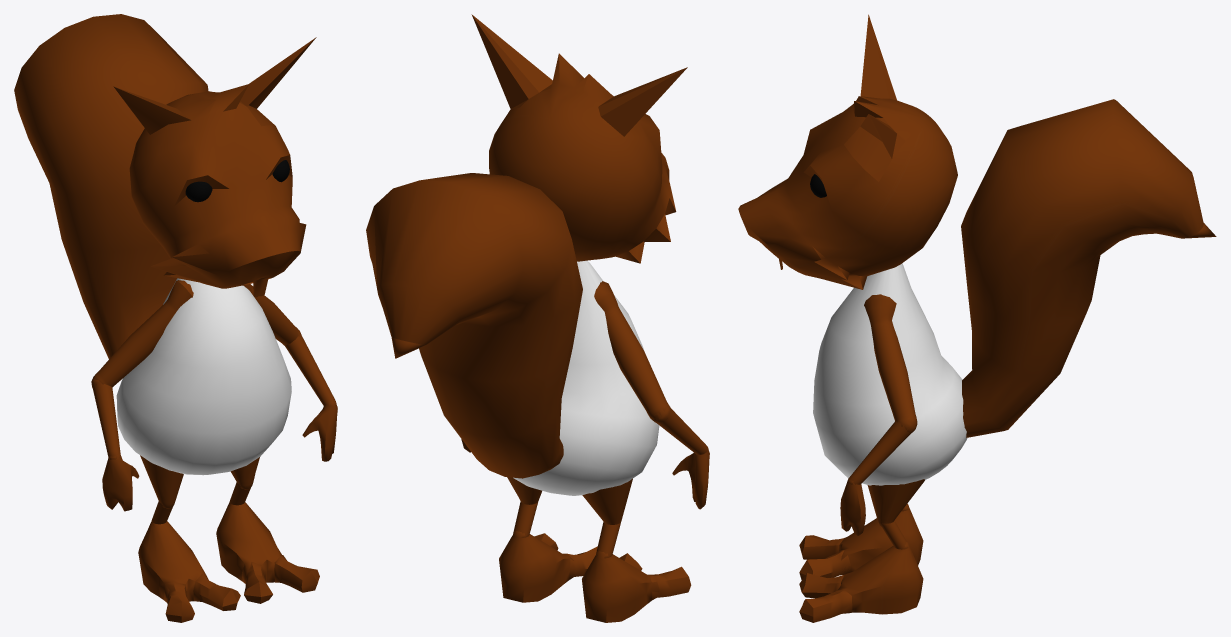
File: Squirrel_Textured.gltf
The picture shows the model from 3 angles, left to right: view 1: azimuth 30°, elevation 25°; view 2: azimuth 150°, elevation 25°; view 3: azimuth 270°, elevation 25°; orthographic projection. The views are drawn at different scales.
Visible parts, largest first — view 1: Tail, Head, Torso, L_Leg_Foot, R_Leg_Foot, R_Arm_Upper, R_Arm_Hand, R_Arm_Lower, L_Arm_Lower, R_Leg_Thigh, L_Arm_Hand, L_Leg_Toe2 (+6 smaller); view 2: Tail, Head, Torso, R_Leg_Foot, L_Leg_Foot, R_Arm_Upper, R_Leg_Thigh, R_Arm_Hand, R_Arm_Lower, R_Leg_Toe2, L_Leg_Shin, R_Leg_Shin (+2 smaller); view 3: Tail, Head, Torso, L_Leg_Foot, L_Arm_Upper, R_Leg_Foot, L_Leg_Thigh, L_Arm_Lower, L_Leg_Toe2, L_Arm_Hand, R_Leg_Toe1, R_Leg_Toe2 (+1 smaller).
Part boxes in pixels (<box>): Tail: <box>14,14,208,358</box>; Head: <box>113,37,316,297</box>; Torso: <box>116,278,291,475</box>; L_Leg_Foot: <box>216,502,281,582</box>; R_Leg_Foot: <box>138,521,208,601</box>; R_Arm_Upper: <box>92,280,193,387</box>; R_Arm_Hand: <box>102,455,139,511</box>; R_Arm_Lower: <box>91,375,120,459</box>; L_Arm_Lower: <box>284,330,336,405</box>; R_Leg_Thigh: <box>140,455,183,508</box>; L_Arm_Hand: <box>302,401,337,461</box>; L_Leg_Toe2: <box>274,555,319,592</box>; Tail: <box>366,173,582,478</box>; Head: <box>471,14,687,263</box>; Torso: <box>513,260,659,495</box>; R_Leg_Foot: <box>582,551,659,622</box>; L_Leg_Foot: <box>499,531,574,602</box>; R_Arm_Upper: <box>594,281,671,422</box>; R_Leg_Thigh: <box>582,478,632,524</box>; R_Arm_Hand: <box>672,447,709,509</box>; R_Arm_Lower: <box>650,405,708,454</box>; R_Leg_Toe2: <box>648,566,691,600</box>; L_Leg_Shin: <box>513,501,537,537</box>; R_Leg_Shin: <box>596,522,620,558</box>; Tail: <box>961,99,1216,437</box>; Head: <box>738,14,957,289</box>; Torso: <box>813,263,967,485</box>; L_Leg_Foot: <box>839,541,923,614</box>; L_Arm_Upper: <box>864,294,917,433</box>; R_Leg_Foot: <box>839,503,923,572</box>; L_Leg_Thigh: <box>867,479,924,526</box>; L_Arm_Lower: <box>848,417,917,484</box>; L_Leg_Toe2: <box>799,588,852,622</box>; L_Arm_Hand: <box>840,477,865,535</box>; R_Leg_Toe1: <box>799,550,850,579</box>; R_Leg_Toe2: <box>799,535,843,559</box>.
Size of the model in its own units: 3.67 by 7.81 by 6.48.
2 materials, 1 textured.
